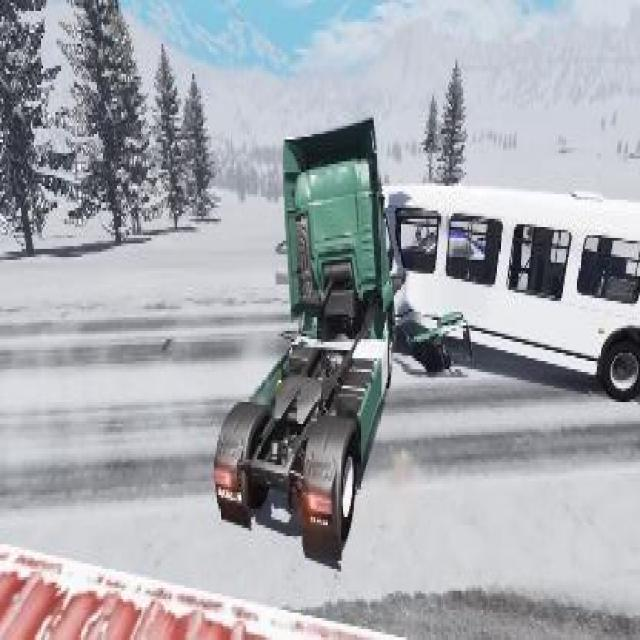accident: (207, 96, 638, 569)
